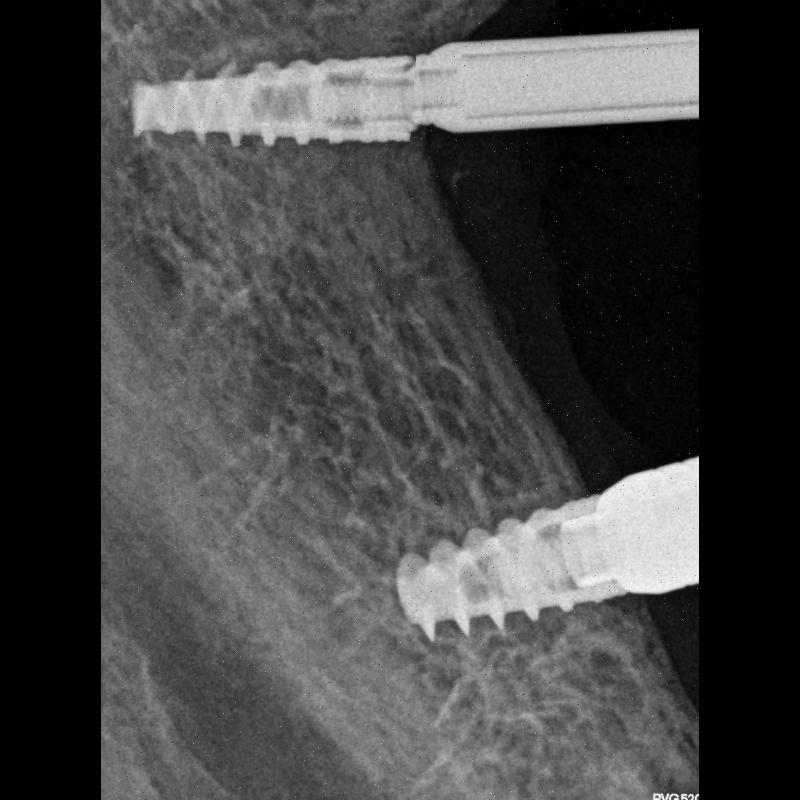ADIN: (126, 30, 414, 182), (385, 480, 633, 652)
